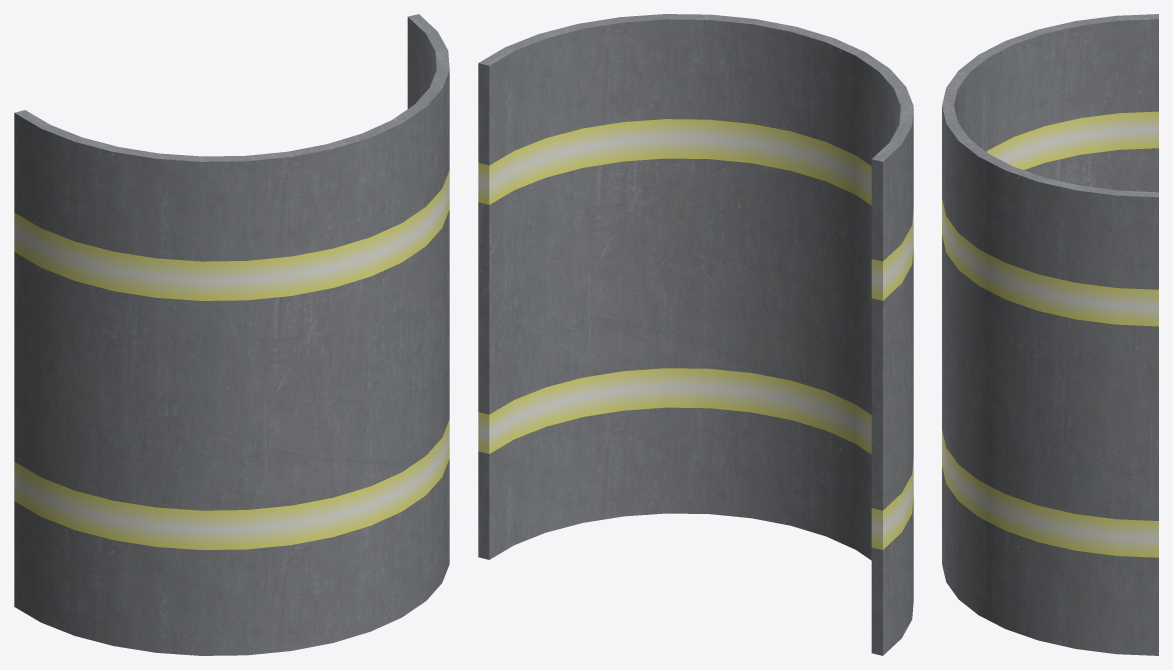
File: lamp01.fbx
The picture shows the model from 3 angles, left to right: view 1: azimuth 30°, elevation 25°; view 2: azimuth 150°, elevation 25°; view 3: azimuth 270°, elevation 25°; orthographic projection. The views are drawn at different scales.
Visible parts, largest first — view 1: Mesh; view 2: Mesh; view 3: Mesh.
Boxes of the visible parts, x1,y1,x2,y2 form: Mesh: (14, 14, 449, 655); Mesh: (478, 14, 913, 655); Mesh: (942, 14, 1158, 655).
Size of the model in its own units: 107 by 125 by 53.55.
